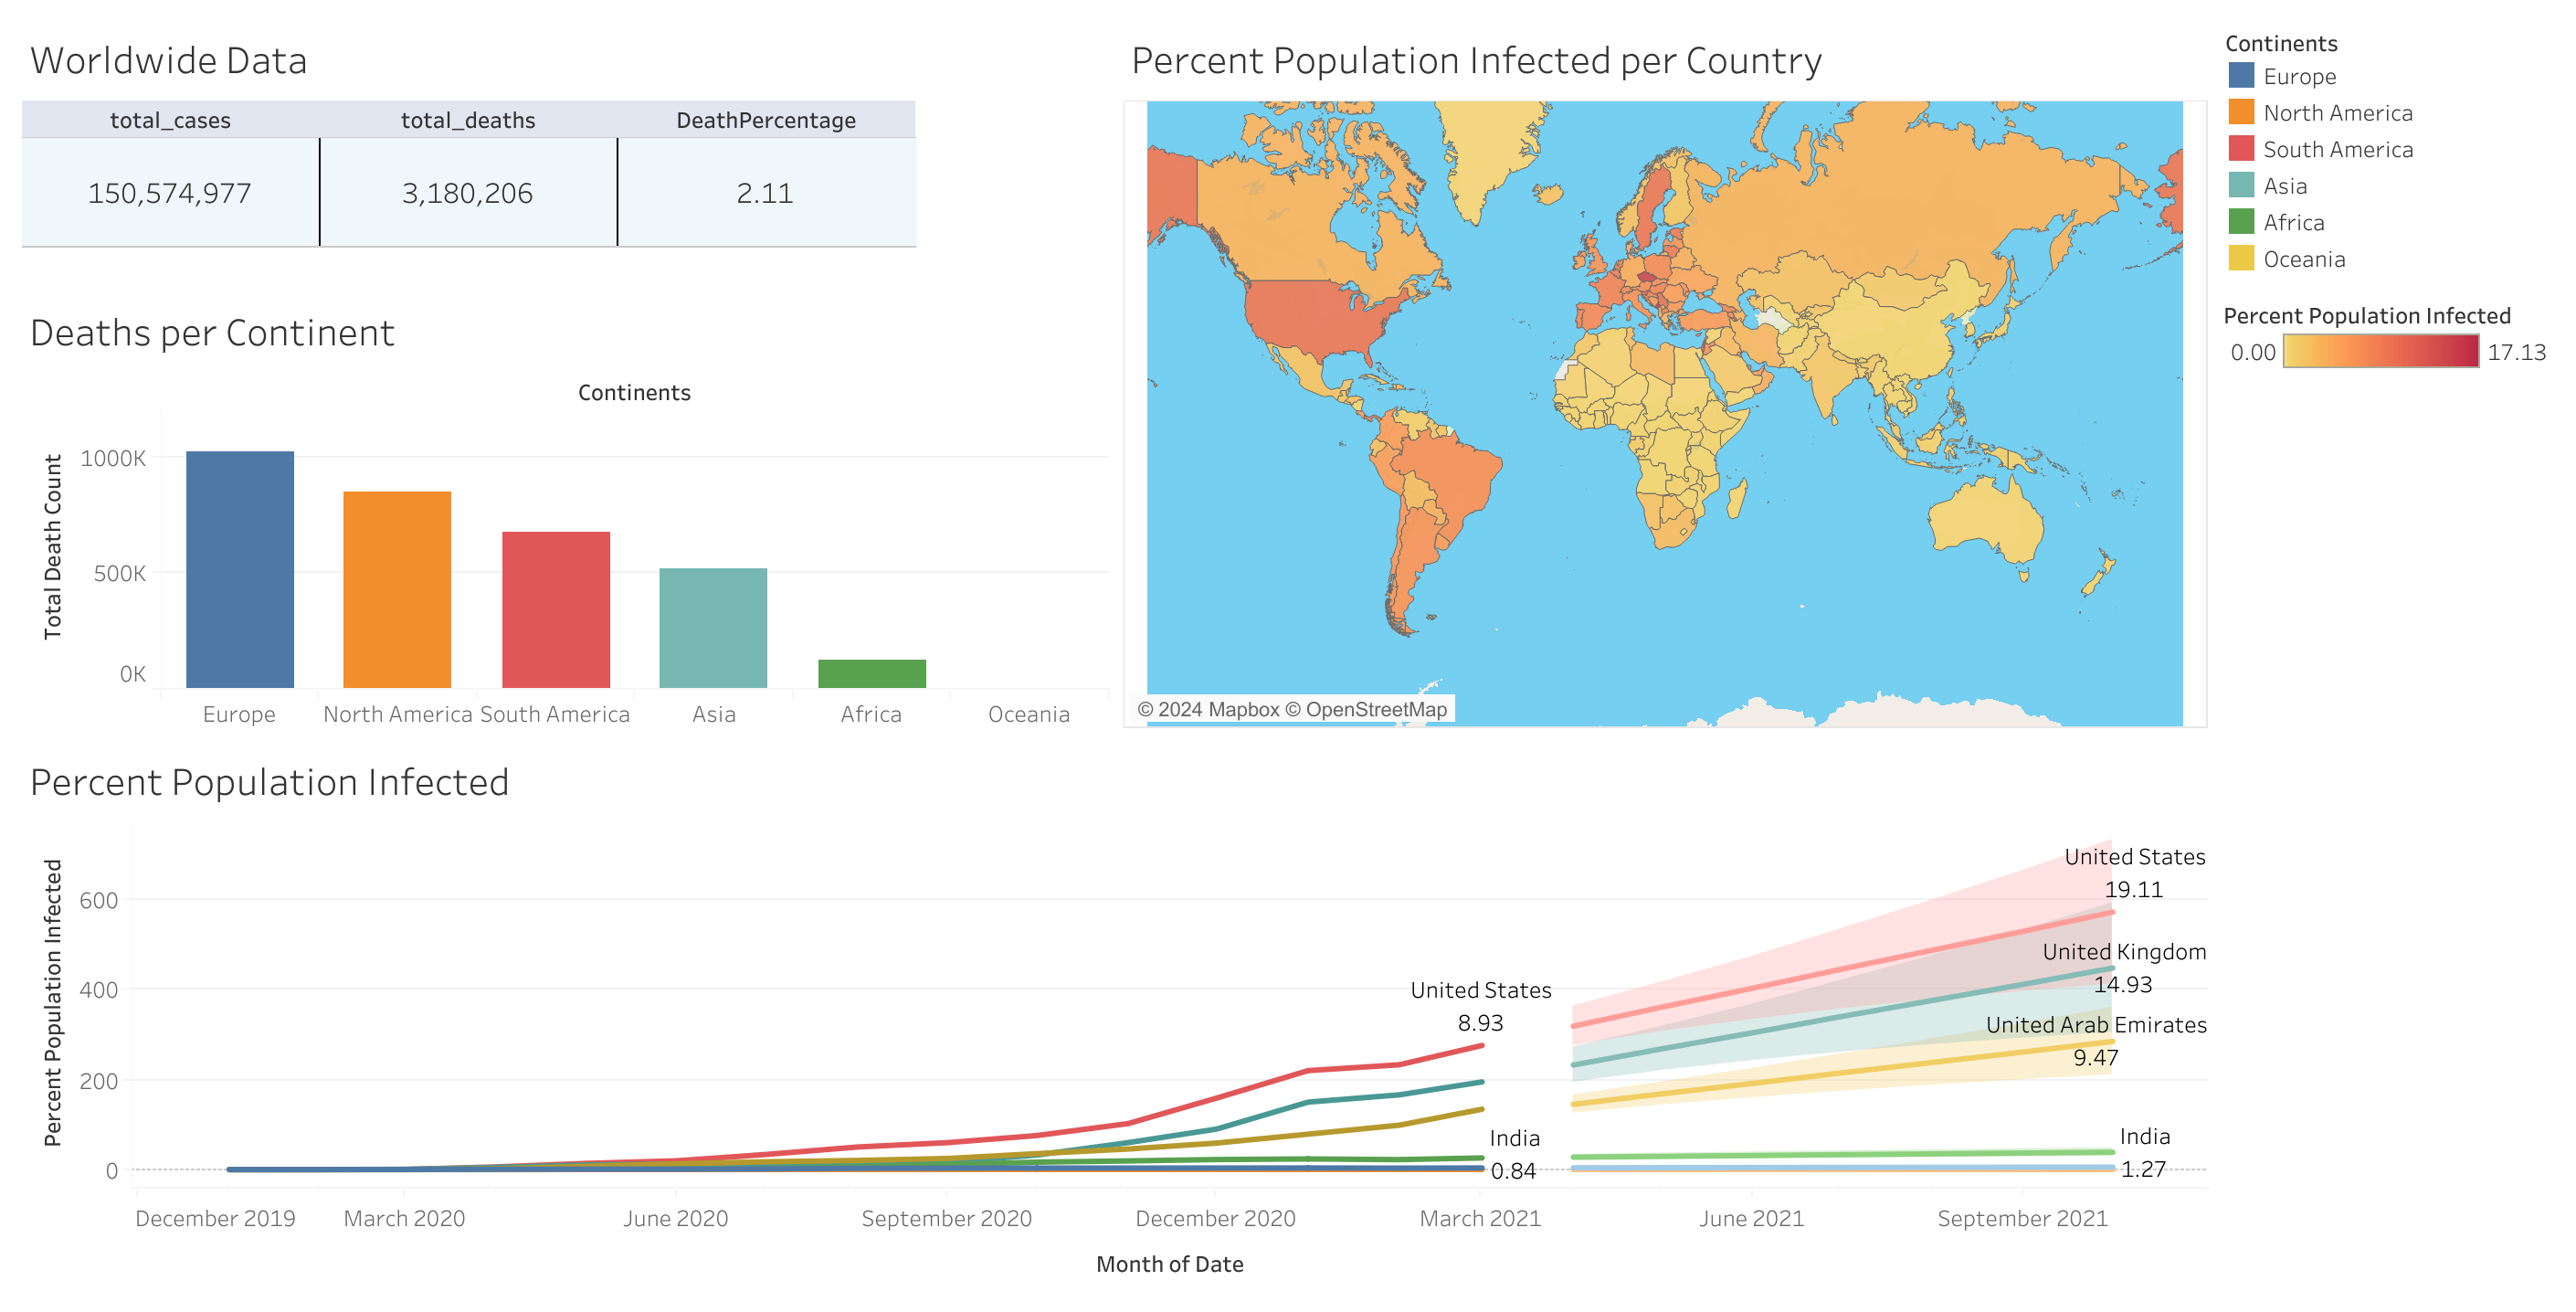

What the dashboard file says about the page in this screenshot:
{"tool":"tableau","page":{"name":"Dashboard 1","canvas":[1000,1000],"units":"permille","ordinal":0},"visuals":[{"type":"worksheet","title":"Sheet 1","mark":"Automatic","box":[6.5,10.4,426.4,207]},{"type":"worksheet","title":"Sheet 3","mark":"Automatic","box":[432.9,10.4,426.4,549.5]},{"type":"legend","title":"Sheet 2","param":"[federated.0z8g67o15oz0j31agt3vg0aonzl3].[none:location:nk]","box":[859.2,10.4,134.2,190.1]},{"type":"legend","title":"Sheet 3","param":"[federated.0k0hcq90h0y9jj15niizk04cy1eu].[sum:PercentPopulationInfected:qk]","box":[859.2,200.5,134.2,84.6]},{"type":"worksheet","title":"Sheet 2","mark":"Automatic","rows":["TotalDeathCount"],"cols":["location"],"box":[6.5,217.5,426.4,342.4]},{"type":"worksheet","title":"Sheet 4","mark":"Automatic","rows":["PercentPopulationInfected"],"cols":["date"],"box":[6.5,559.9,852.7,429.7]}]}

Visuals, with their boxes on the dashboard's canvas, which has no fixed pixel size, in thousandths of its width and height (x1, y1, x2, y2). These are canvas units, not pixel positions in the 2576x1312 screenshot, which may show the page scaled, cropped or inside an application window:
"Sheet 1" worksheet: bbox=[6, 10, 433, 217]
"Sheet 3" worksheet: bbox=[433, 10, 859, 560]
"Sheet 2" legend: bbox=[859, 10, 993, 200]
"Sheet 3" legend: bbox=[859, 200, 993, 285]
"Sheet 2" worksheet: bbox=[6, 218, 433, 560]
"Sheet 4" worksheet: bbox=[6, 560, 859, 990]
